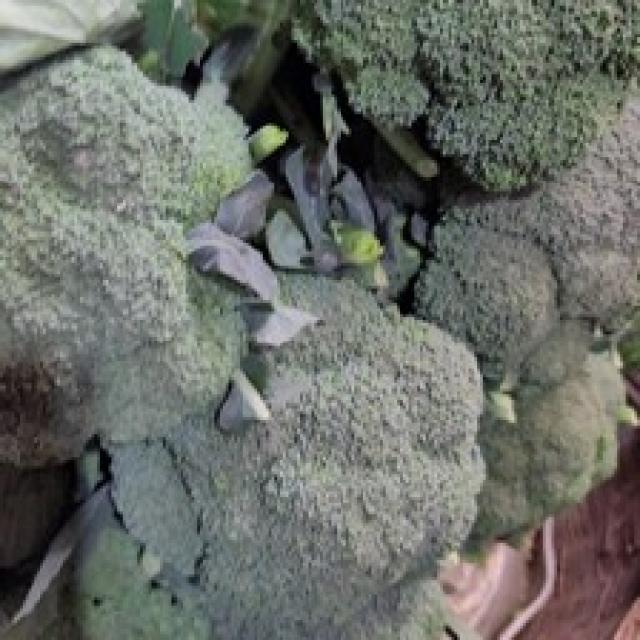Broccoli: (114, 272, 485, 640), (115, 272, 485, 640), (0, 45, 251, 466), (0, 46, 251, 466), (469, 321, 624, 547), (469, 321, 624, 547), (521, 98, 640, 331), (521, 98, 640, 331), (415, 215, 558, 384), (415, 214, 556, 383)
